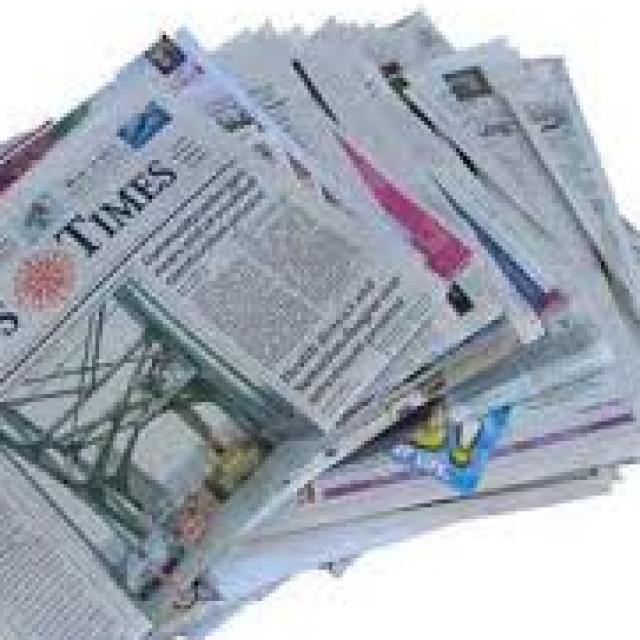organic: (17, 13, 626, 618)
